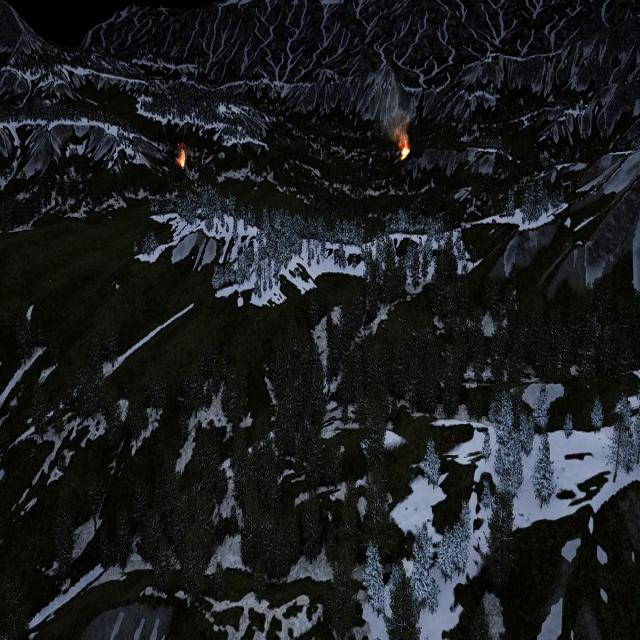fire: (400, 140, 410, 158), (178, 148, 186, 166)
smoke: (380, 86, 414, 142)
